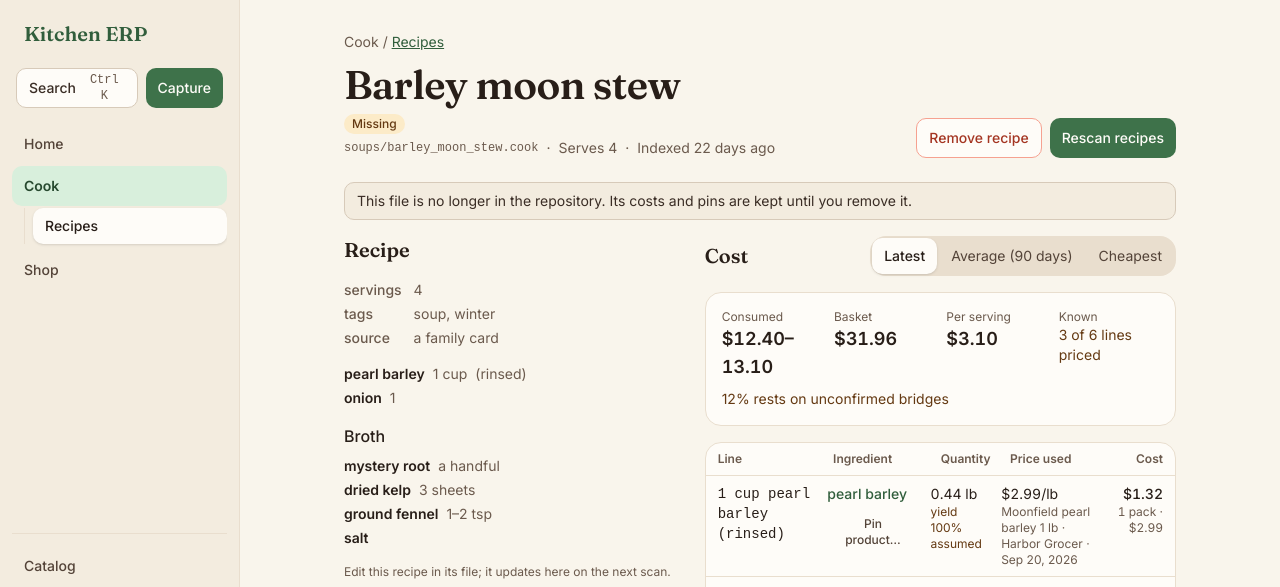
Test case: parse errors and missing files (UI-7.15) › removes a missing recipe after an inline confirmation with focus on Cancel, then opens the list with the Notice
Click the button "Remove recipe": (979, 138) [916, 118, 1042, 158]
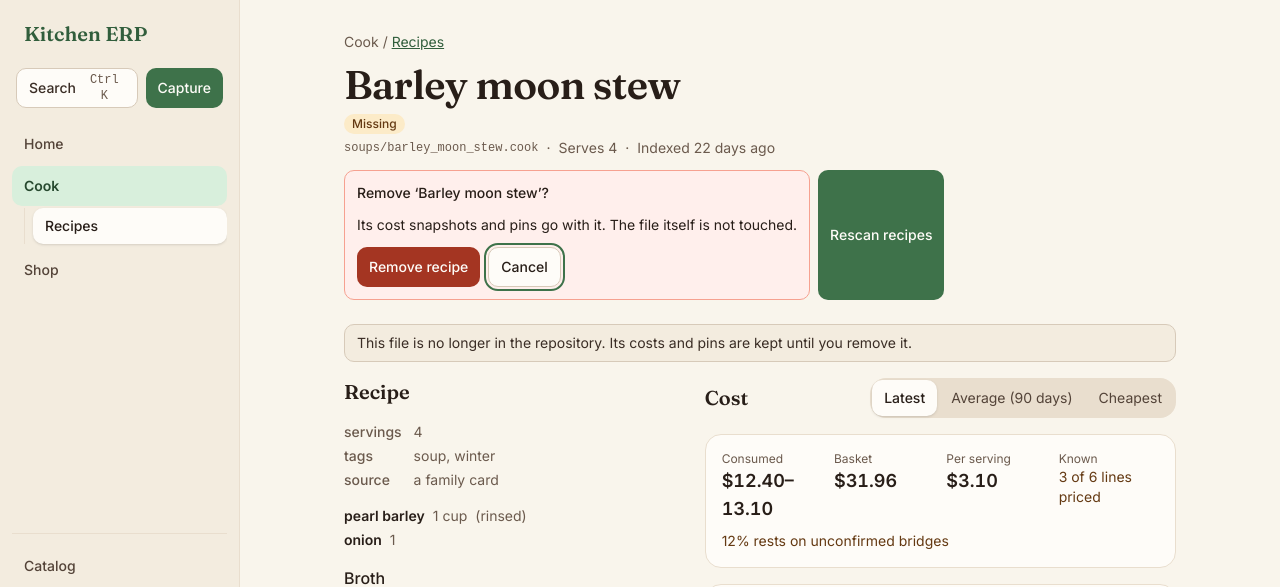
Click the button "Cancel": (525, 267) [488, 247, 561, 287]
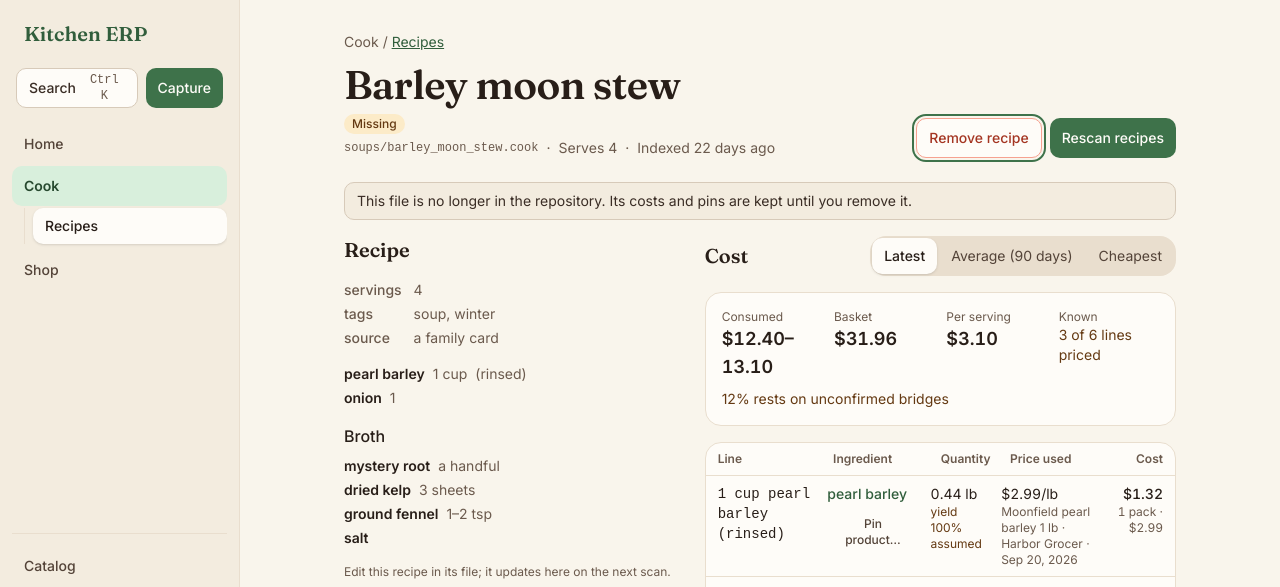
Click the button "Remove recipe": (979, 138) [916, 118, 1042, 158]
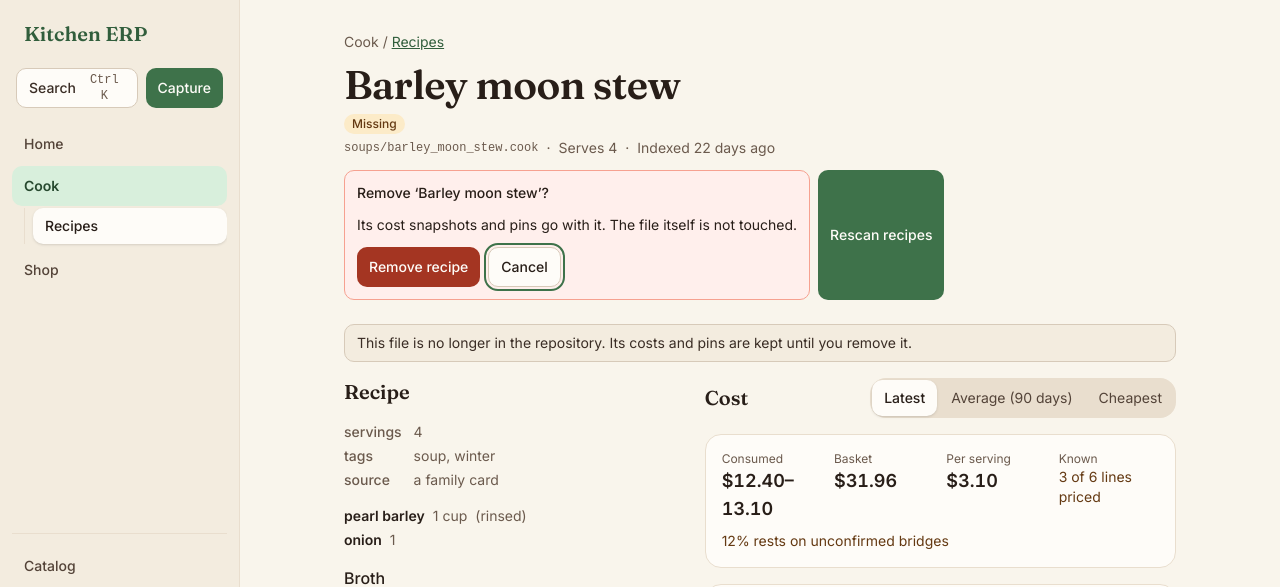
Click the button "Remove recipe": (419, 267) [357, 247, 480, 287]
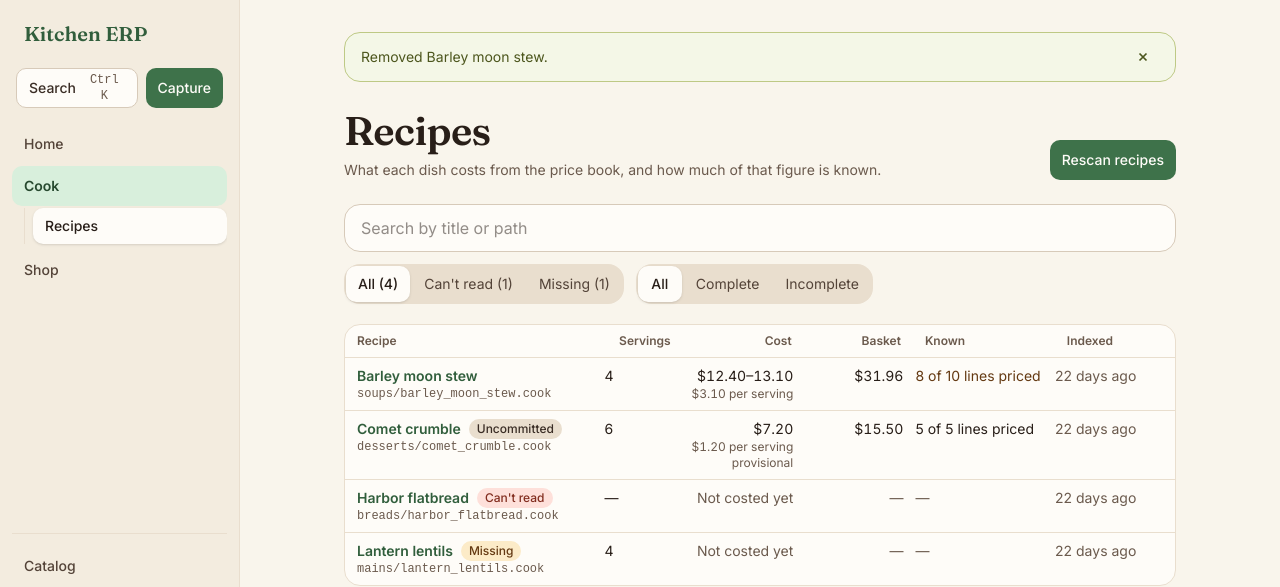
Now the heading "Recipes" is shown, box [344, 106, 490, 155]
Now the message with test id "notice" reads "Removed Barley moon stew.", box [361, 48, 548, 65]
